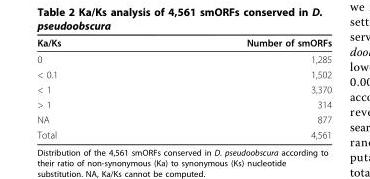table: (36, 36, 331, 139)
table column: (153, 36, 331, 139), (36, 36, 153, 139)
table column header: (36, 36, 331, 50)
table row: (36, 50, 331, 66), (36, 66, 331, 81), (36, 81, 331, 96), (36, 96, 331, 111), (36, 111, 331, 126), (36, 36, 331, 50), (36, 126, 331, 139)
